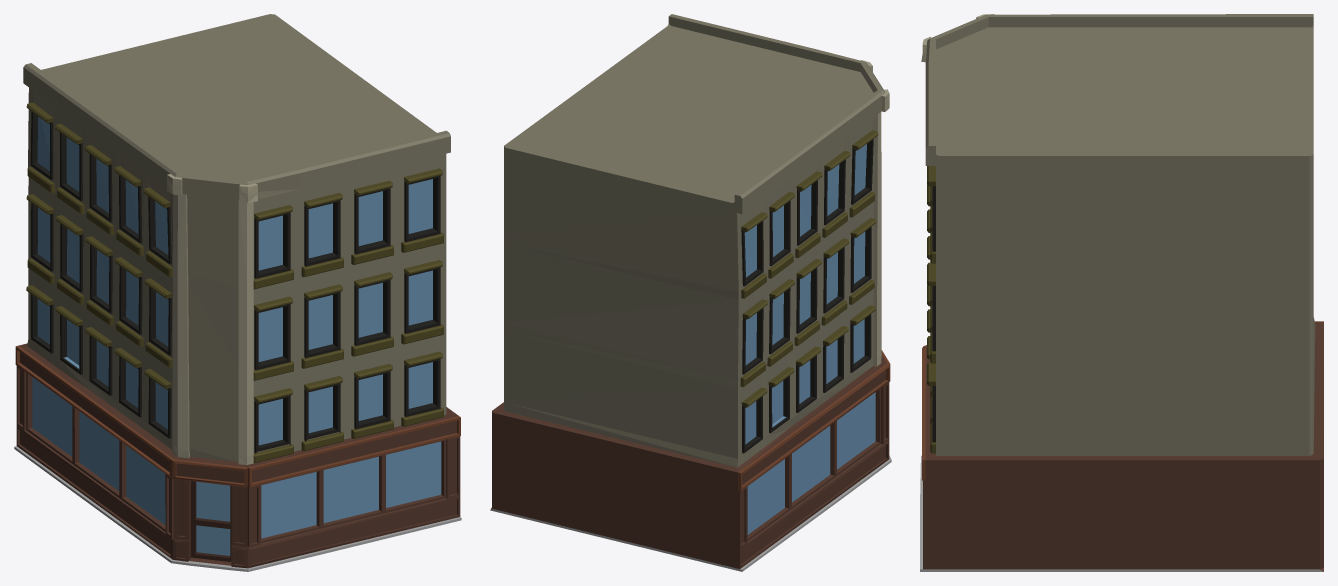
The model's file is CornerApartmentBuilding.fbx.
3 views of the same model, side by side, from view 1: azimuth 30°, elevation 25°; view 2: azimuth 150°, elevation 25°; view 3: azimuth 270°, elevation 25° (orthographic). The views are drawn at different scales.
Parts seen in each view (by area): view 1: pCube21; view 2: pCube21; view 3: pCube21.
Boxes of the visible parts, bbox=[...] form: pCube21: bbox=[14, 14, 461, 571]; pCube21: bbox=[490, 14, 891, 571]; pCube21: bbox=[920, 14, 1323, 571].
Size of the model in its own units: 59 by 83 by 72.
